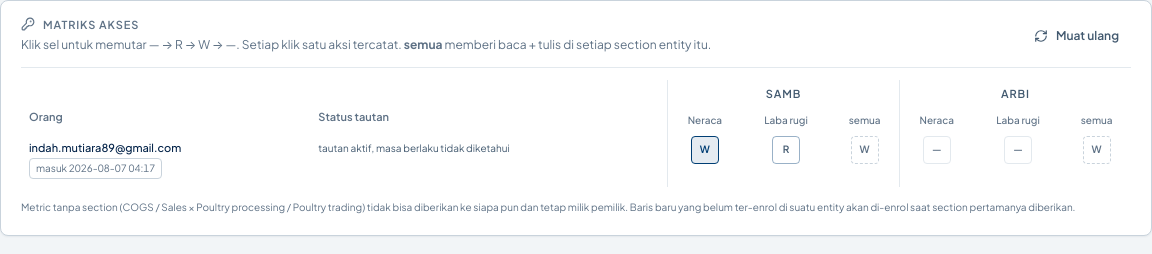
Test case: a click is one audited call, applied before the answer › R → W upgrades in place with grant-scope write
The image size is (1152, 254).
expect the text "indah.mutiara89@gmail.com" is shown: met, box [29,140,181,154]
Click the button "R": (786, 150) [772,136,800,164]
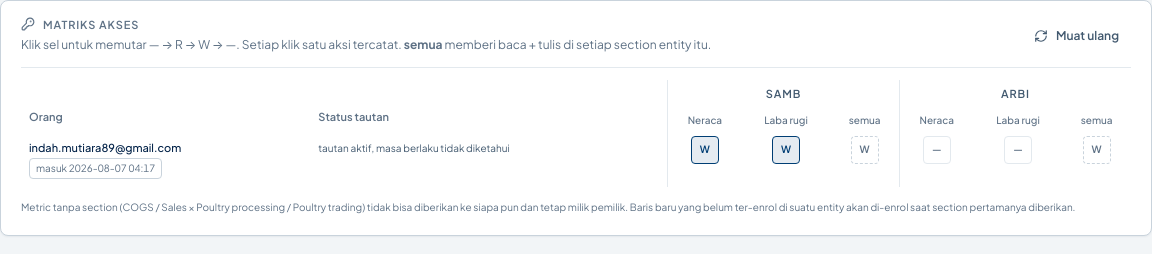
expect the 2nd button "W" is shown: met, box [772,136,800,164]
